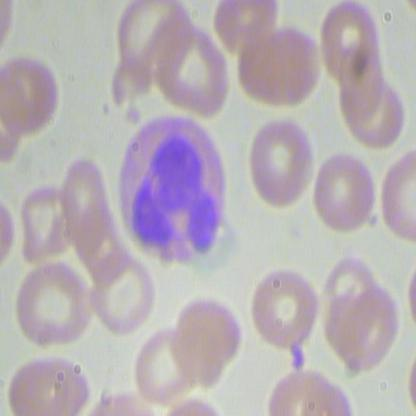RBC: (233, 18, 322, 108), (142, 28, 231, 118), (12, 258, 92, 350), (86, 243, 156, 339), (328, 284, 398, 380), (246, 118, 316, 213), (308, 146, 378, 241), (252, 260, 322, 355), (173, 287, 242, 382), (131, 313, 200, 408), (317, 1, 386, 91), (0, 50, 60, 138), (7, 352, 90, 415)
WBC: (113, 113, 232, 271)
